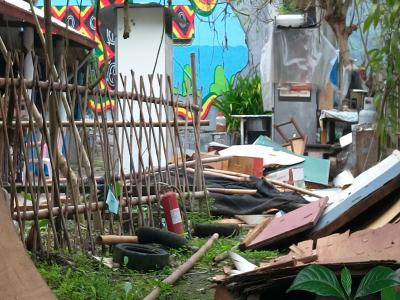box: (225, 156, 263, 177)
plastic_bag: (210, 179, 301, 212)
tire: (110, 238, 172, 280), (131, 225, 189, 251)
